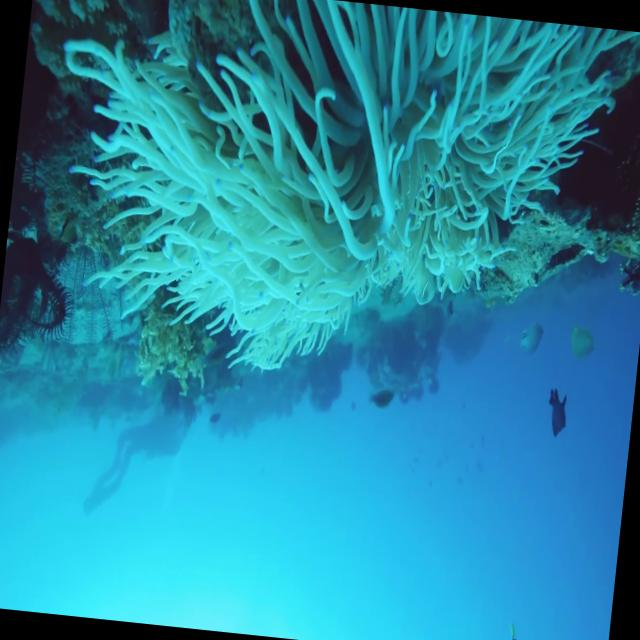fish: (508, 308, 550, 367), (538, 382, 572, 449), (560, 321, 602, 366), (492, 620, 527, 640)
